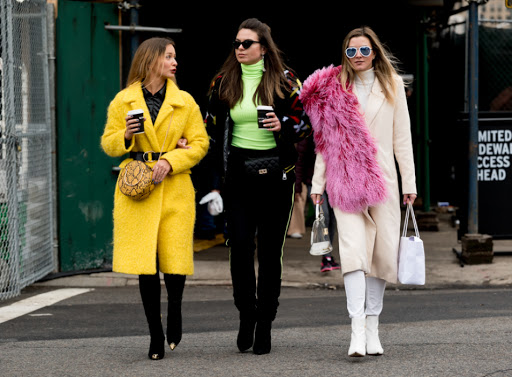Person: (295, 27, 440, 377), (90, 31, 215, 371), (201, 14, 312, 368)
